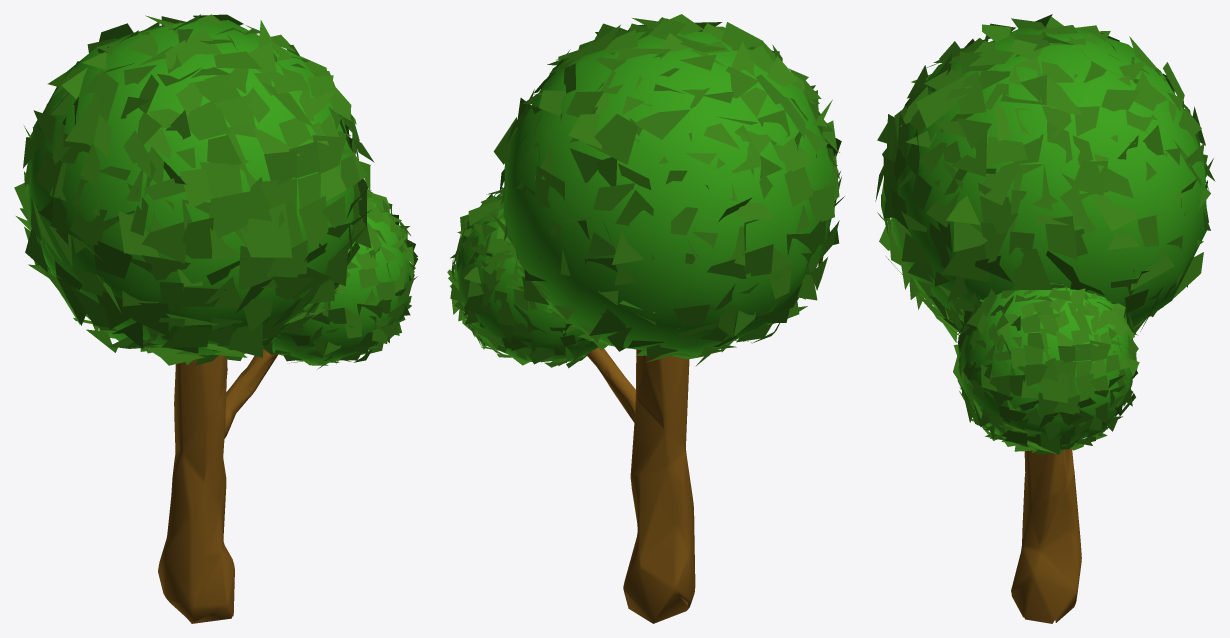
File: arbol1_game.fbx
The picture shows the model from 3 angles, left to right: view 1: azimuth 30°, elevation 25°; view 2: azimuth 150°, elevation 25°; view 3: azimuth 270°, elevation 25°; orthographic projection. The views are drawn at different scales.
Parts seen in each view (by area): view 1: circle_bush_low, arbol_tronco_low, circle_bush_low001; view 2: circle_bush_low, arbol_tronco_low, circle_bush_low001; view 3: circle_bush_low, circle_bush_low001, arbol_tronco_low.
Boxes of the visible parts, <box> form: circle_bush_low: <box>14,14,374,365</box>; arbol_tronco_low: <box>158,348,278,623</box>; circle_bush_low001: <box>262,189,417,369</box>; circle_bush_low: <box>491,14,844,366</box>; arbol_tronco_low: <box>586,347,695,623</box>; circle_bush_low001: <box>447,187,598,368</box>; circle_bush_low: <box>875,14,1215,342</box>; circle_bush_low001: <box>953,283,1139,454</box>; arbol_tronco_low: <box>1011,448,1081,623</box>.
Bounding box in the file's own units: 277 × 425 × 230.
